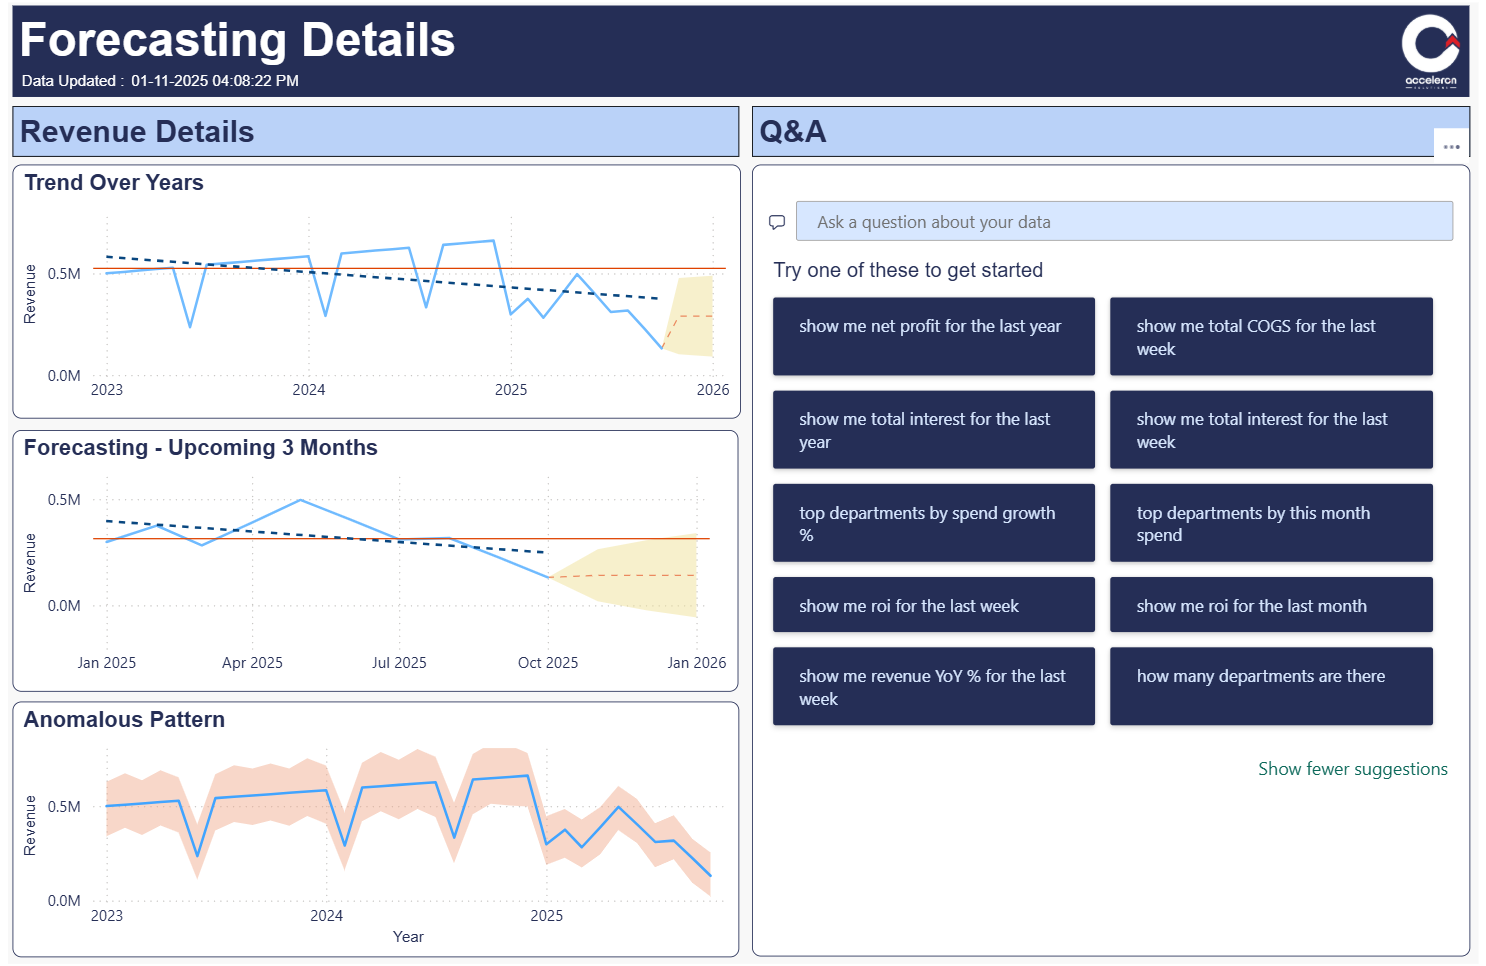

Layout of this report page (visuals, bound fields, positions):
{"tool":"powerbi","page":{"name":"Forecasting & Intelligence","canvas":[1170,765],"ordinal":4},"visuals":[{"type":"textbox","box":[6.8,3.2,1157.2,756.5],"z":0},{"type":"textbox","box":[10.8,5.7,1147,72],"z":1000},{"type":"image","box":[1096.8,55.9,60.6,21.8],"z":2000},{"type":"image","box":[1096.8,5.9,60.6,59.6],"z":3000},{"type":"textbox","box":[13,49.5,95.8,29.2],"z":4000},{"type":"textbox","box":[98.6,49.5,157.4,31],"z":5000},{"type":"lineChart","title":"Forecasting - Upcoming 3 Months","fields":{"Y":["Financials.Only Revenue"],"Category":["Date.Correct Date"]},"box":[10.2,339.8,571.6,205.7],"z":6000},{"type":"lineChart","title":"Trend Over Years","fields":{"Y":["Financials.Only Revenue"],"Category":["Date.Correct Date"]},"box":[10.7,131.1,573.3,200],"z":7000},{"type":"lineChart","title":"Anomalous Pattern","fields":{"Y":["Financials.Only Revenue"],"Category":["Date.Date Hierarchy.Date"]},"box":[10.5,553.3,571.7,201.3],"z":8000},{"type":"textbox","box":[10.7,84.5,572.3,39.8],"z":9000},{"type":"textbox","box":[592.8,84.5,565.5,40.3],"z":10000},{"type":"qnaVisual","box":[592.8,131.3,565.2,623.2],"z":11000}]}

Visuals, with their boxes in screenshot pixels (x1, y1, x2, y2), scaled from the page's 1170x765 canvas onto the 1486x966 screenshot:
textbox: <box>9,4,1478,959</box>
textbox: <box>14,7,1471,98</box>
image: <box>1393,71,1470,98</box>
image: <box>1393,7,1470,83</box>
textbox: <box>17,63,138,99</box>
textbox: <box>125,63,325,102</box>
"Forecasting - Upcoming 3 Months" lineChart: <box>13,429,739,689</box>
"Trend Over Years" lineChart: <box>14,166,742,418</box>
"Anomalous Pattern" lineChart: <box>13,699,739,953</box>
textbox: <box>14,107,740,157</box>
textbox: <box>753,107,1471,158</box>
qnaVisual: <box>753,166,1471,953</box>
